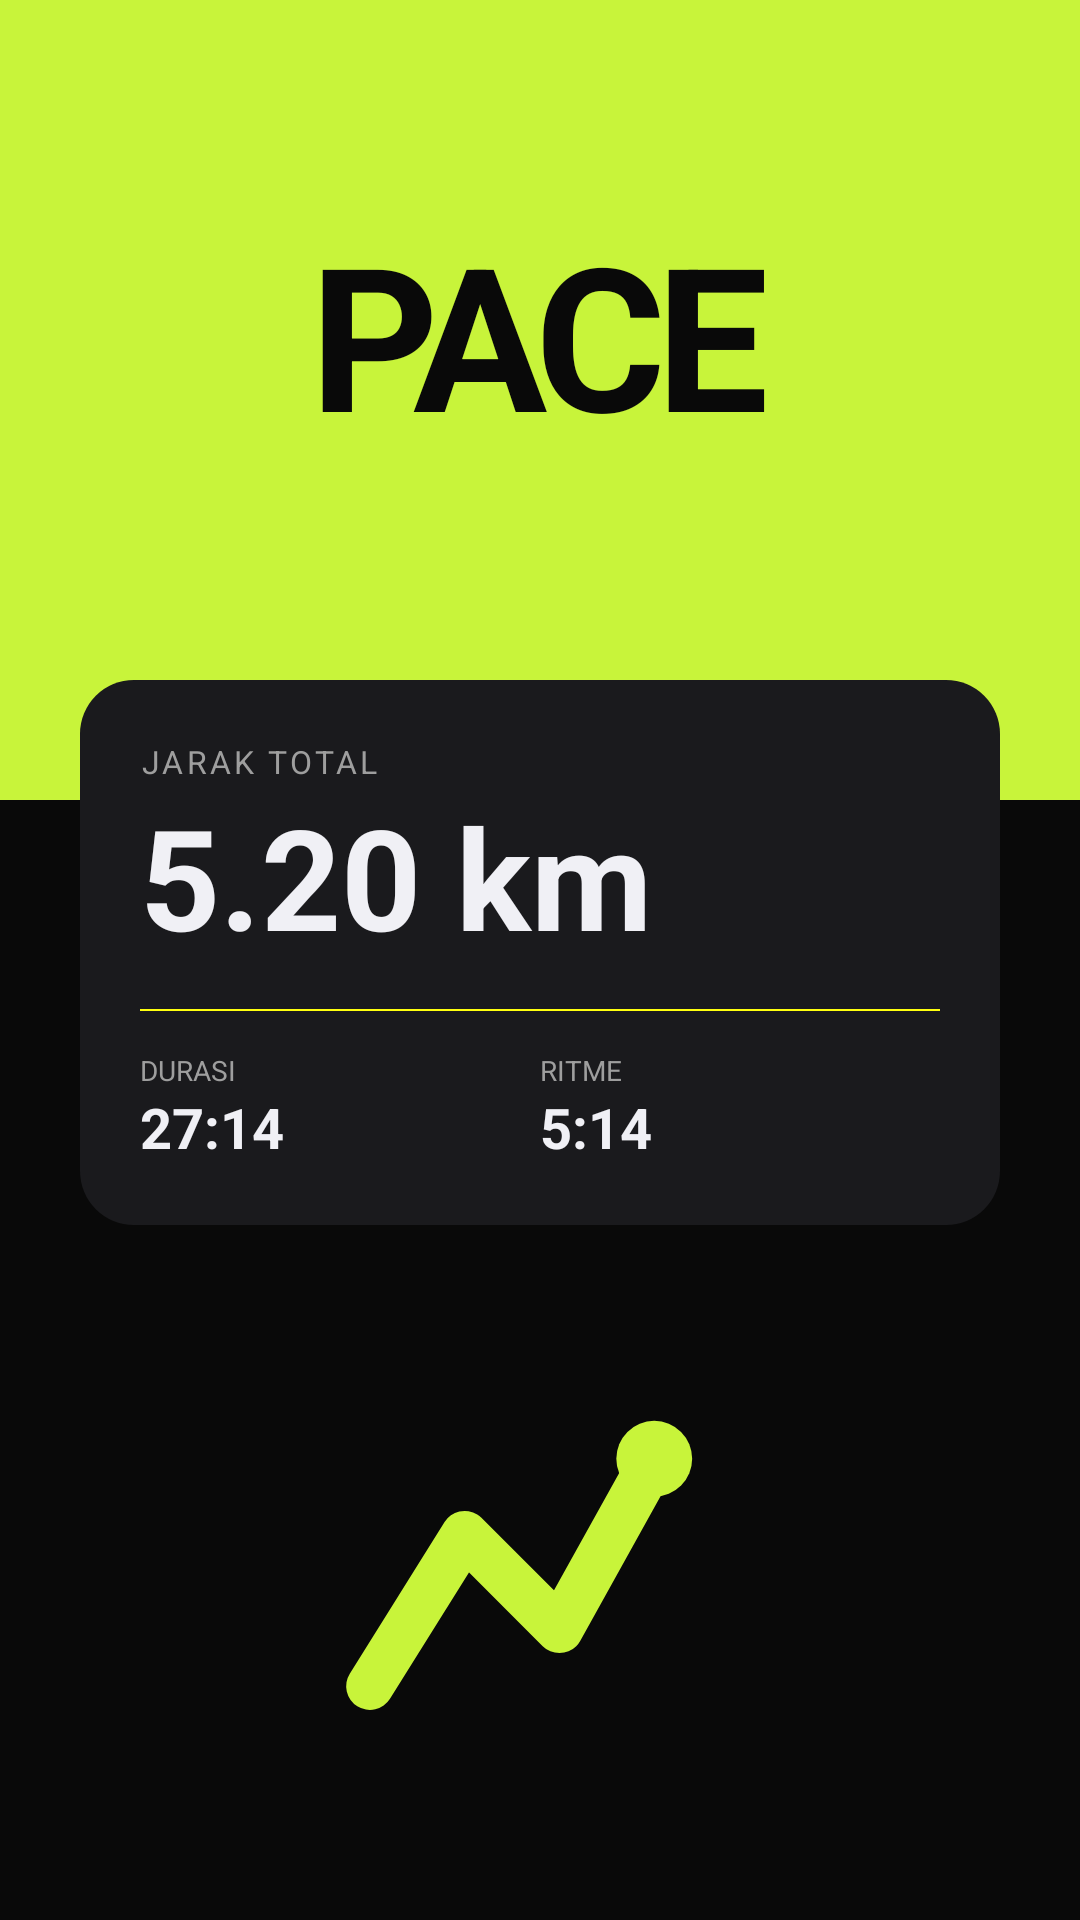

Icons on this 1080 × 1920 Android screen, each with its box as box(x1, y1, x2, y2):
run path: box(346, 1420, 693, 1710)
